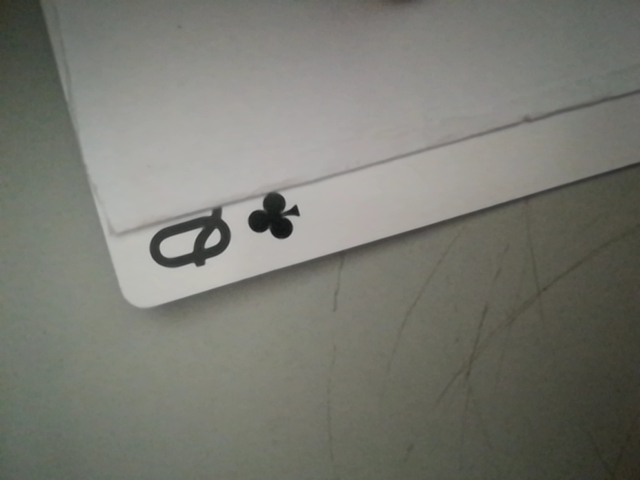mh q: (126, 186, 316, 290)
